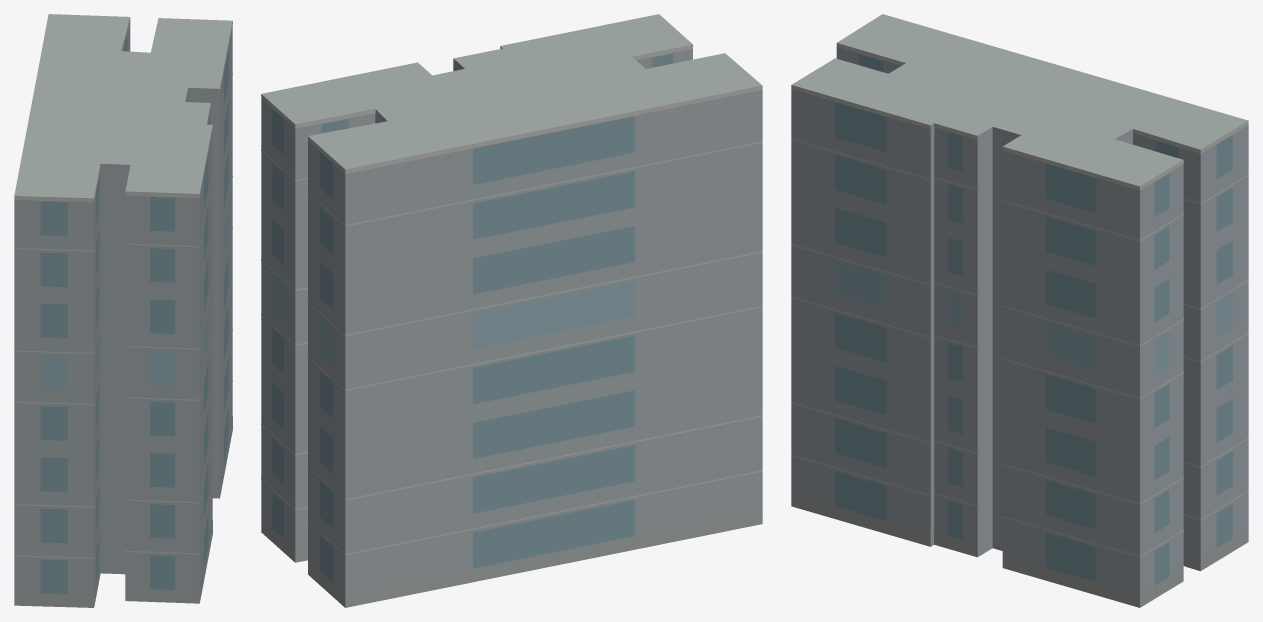
Rendered from survey-upis-32731282.glb.
3 views of the same model, side by side, from view 1: azimuth 30°, elevation 25°; view 2: azimuth 150°, elevation 25°; view 3: azimuth 270°, elevation 25° (orthographic). The views are drawn at different scales.
Visible parts, largest first — view 1: survey-upis-32731282.tmp; view 2: survey-upis-32731282.tmp; view 3: survey-upis-32731282.tmp.
Boxes of the visible parts, <box> form: survey-upis-32731282.tmp: <box>14,14,232,607</box>; survey-upis-32731282.tmp: <box>261,14,762,607</box>; survey-upis-32731282.tmp: <box>791,14,1248,607</box>.
Bounding box in the file's own units: 21.43 × 24.4 × 24.01.
